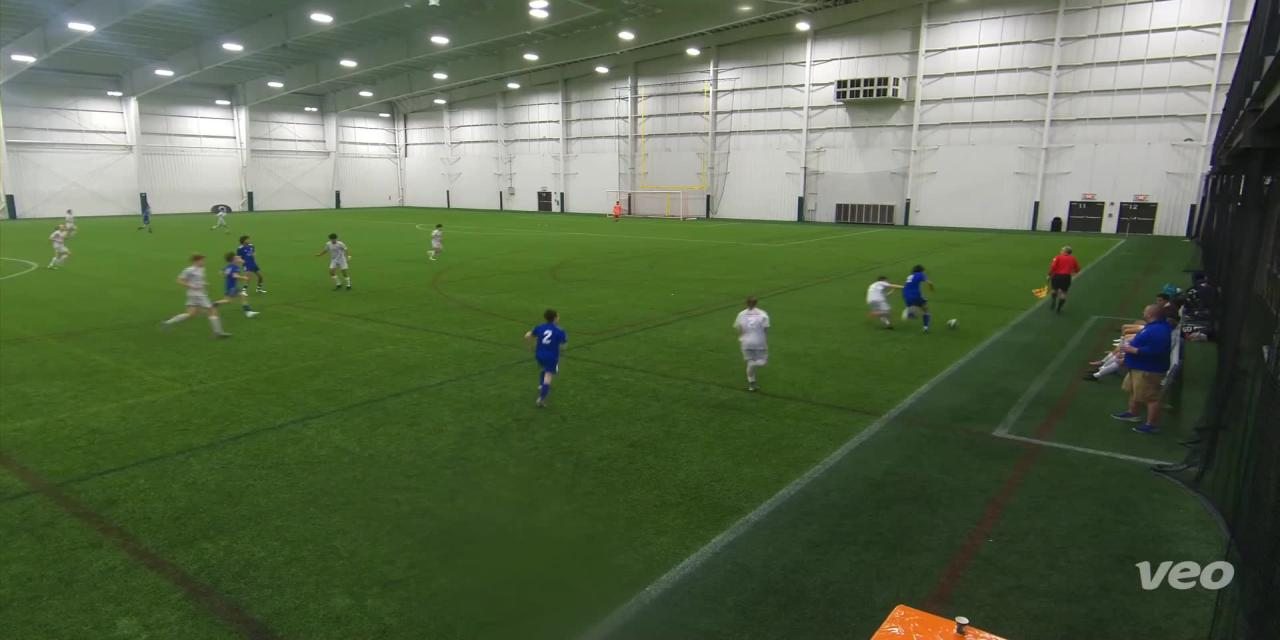goal: (600, 185, 698, 224)
sports ball: (943, 313, 967, 333)
